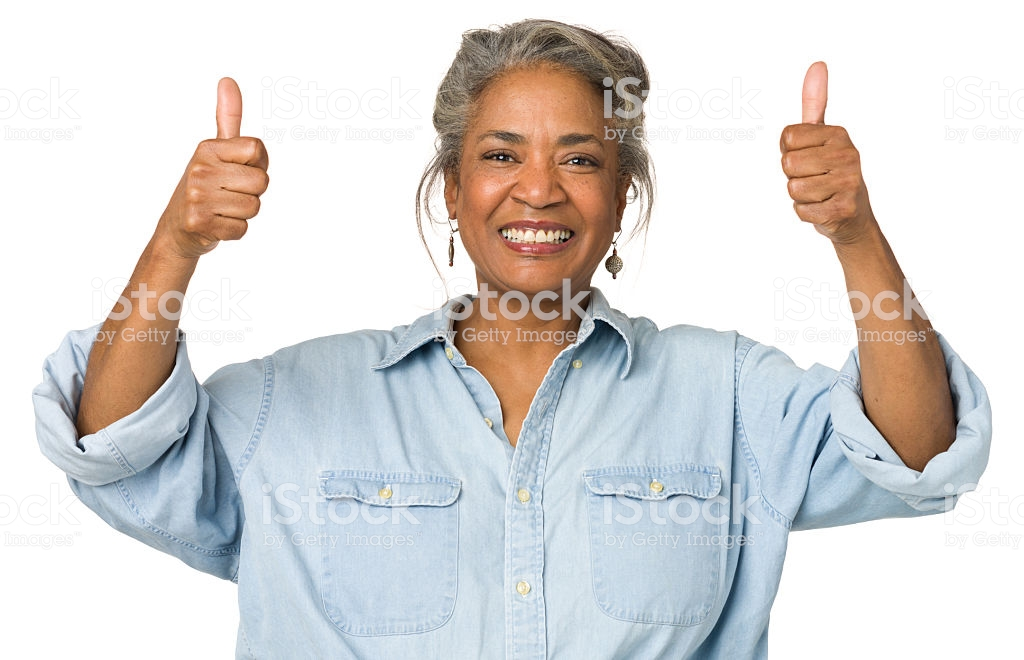thumbsup: (780, 59, 865, 229), (183, 76, 269, 241)
